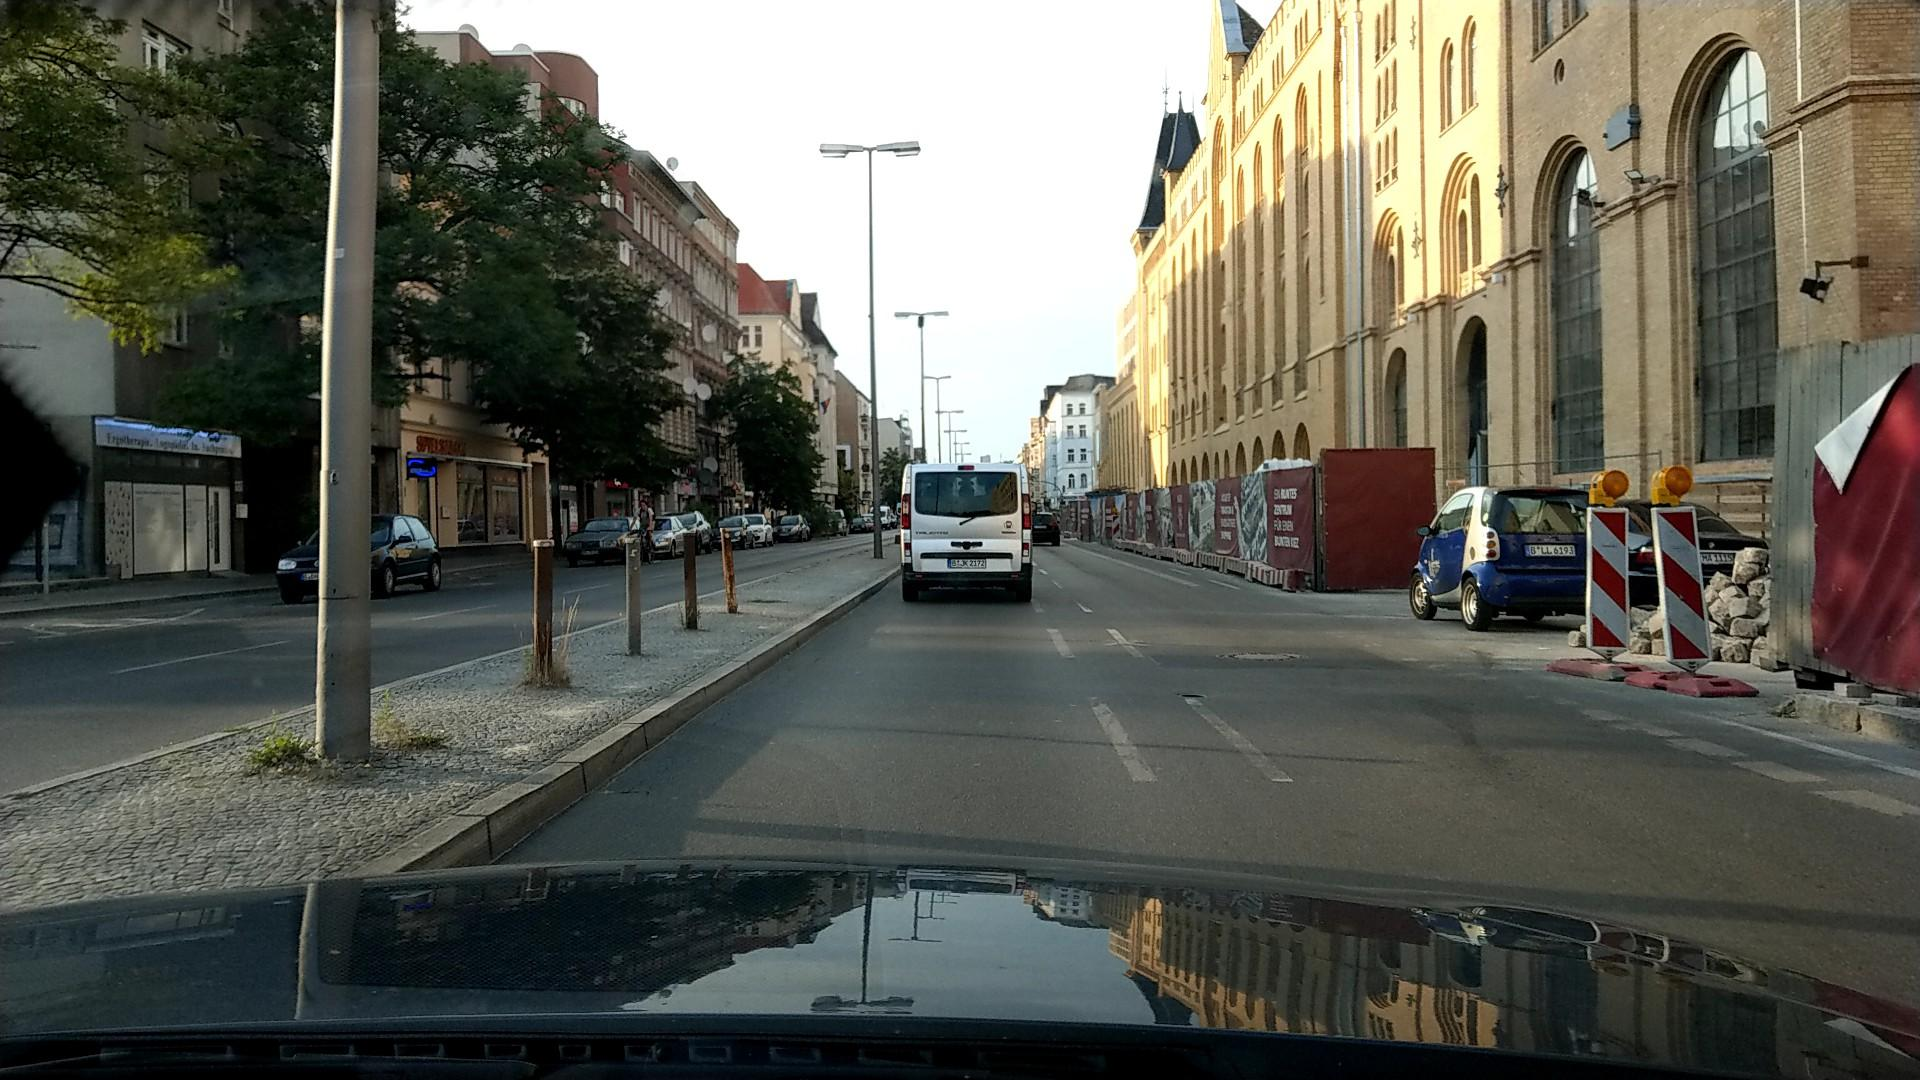Human face: (639, 500, 647, 510)
Vehicle registration plate: (1522, 544, 1576, 556), (1697, 552, 1735, 566), (946, 557, 986, 569), (581, 550, 599, 555)
